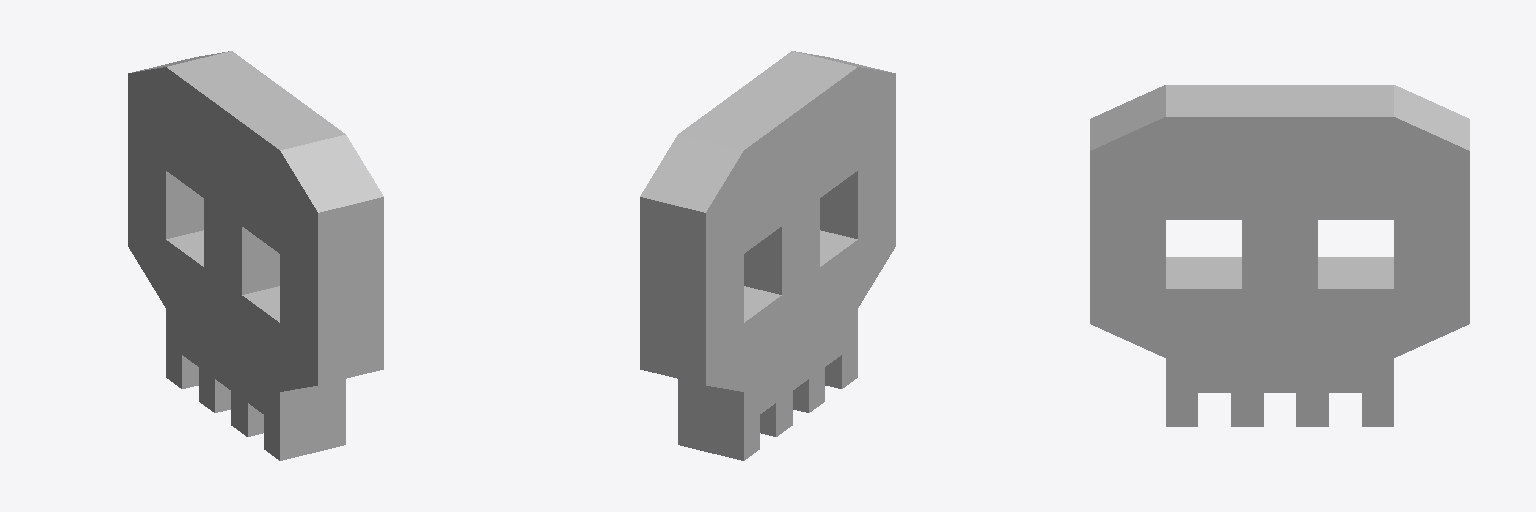
The model's file is Skull-Icon.obj.
3 renders of one model, left to right at view 1: azimuth 30°, elevation 25°; view 2: azimuth 150°, elevation 25°; view 3: azimuth 270°, elevation 25°, orthographic.
Parts seen in each view (by area): view 1: Cube, Cube.001; view 2: Cube, Cube.001; view 3: Cube, Cube.001.
Boxes of the visible parts, x1,y1,x2,y2 form: Cube: [128, 51, 383, 391]; Cube.001: [166, 309, 345, 460]; Cube: [640, 51, 895, 391]; Cube.001: [678, 309, 857, 460]; Cube: [1090, 85, 1469, 357]; Cube.001: [1166, 358, 1393, 426].
Bounding box in the file's own units: 2 × 9 × 10.